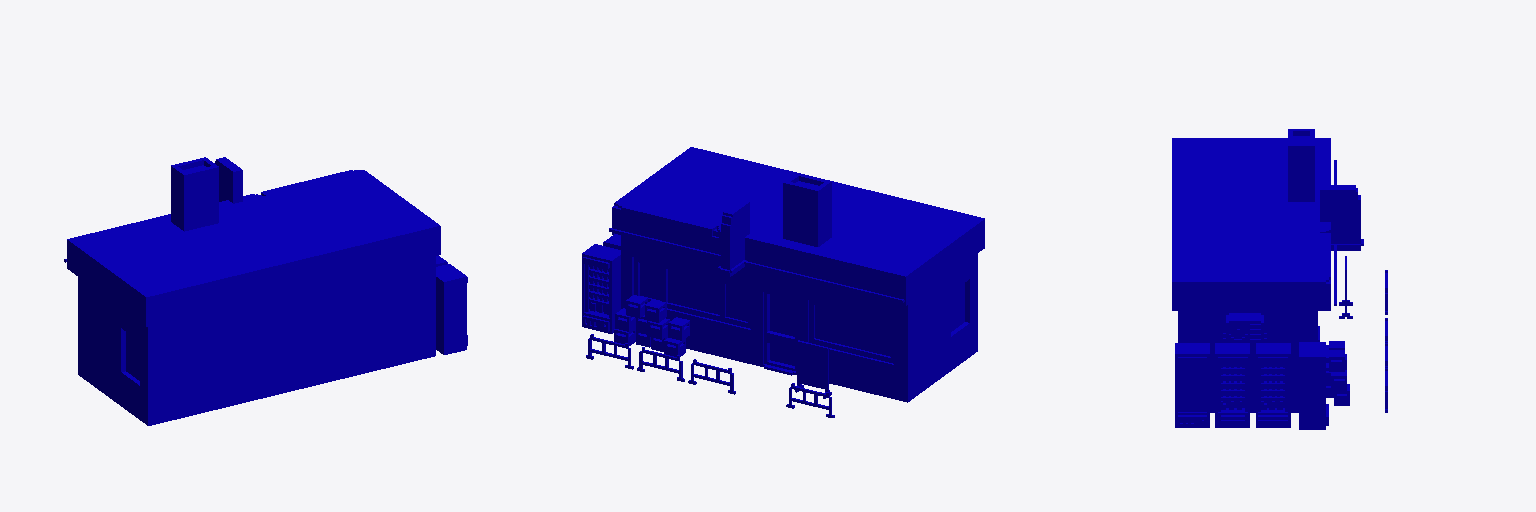
File: shop1.obj
3 views of the same model, side by side, from view 1: azimuth 30°, elevation 25°; view 2: azimuth 150°, elevation 25°; view 3: azimuth 270°, elevation 25° (orthographic).
Parts seen in each view (by area): view 1: ShopBuilding_1_Material; view 2: ShopBuilding_1_Material; view 3: ShopBuilding_1_Material.
Part boxes in pixels (x1,y1,x2,y2): ShopBuilding_1_Material: (64, 157, 467, 425); ShopBuilding_1_Material: (582, 147, 984, 417); ShopBuilding_1_Material: (1172, 129, 1387, 429).
Bounding box in the file's own units: 11.2 × 6.16 × 6.4.